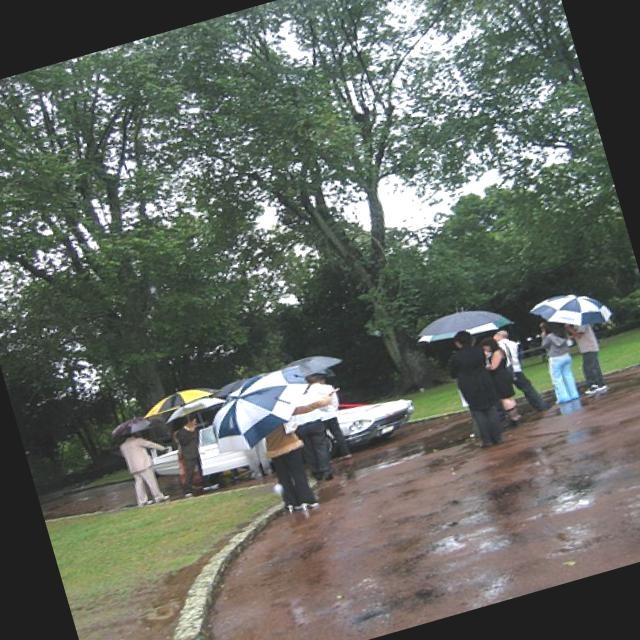Vehicle: (191, 371, 423, 494)
